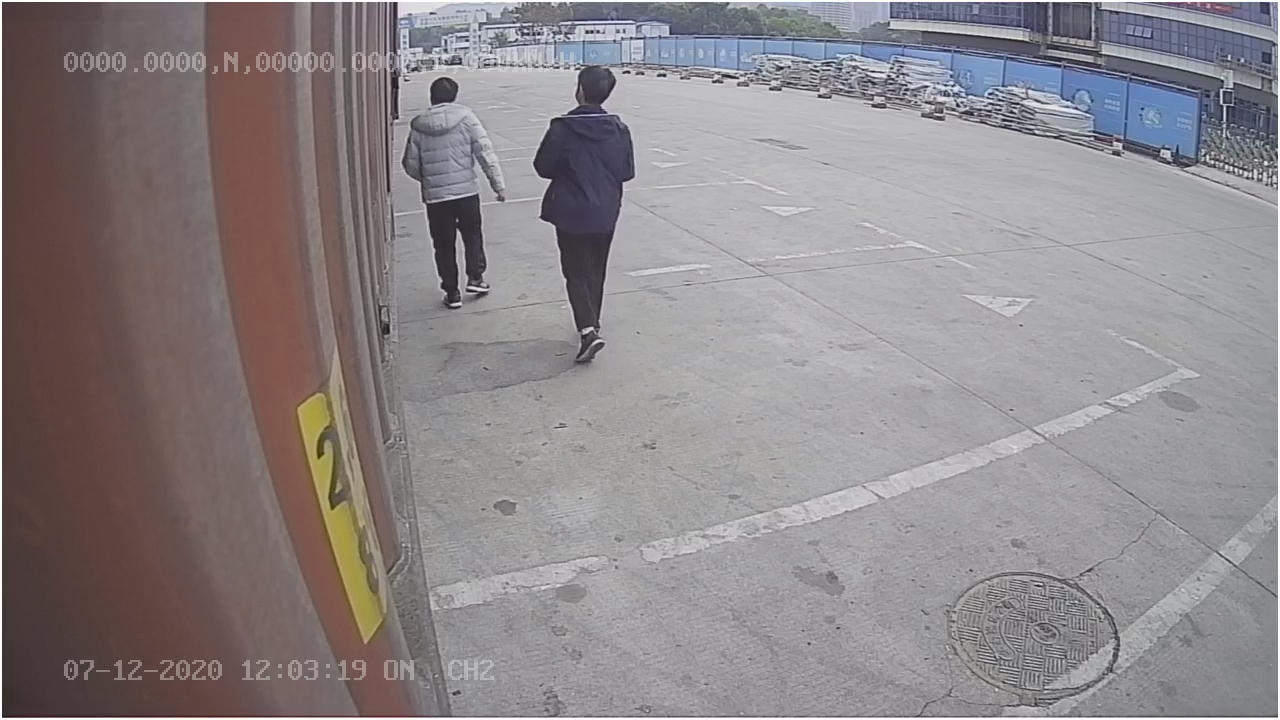person: (532, 56, 640, 363), (404, 75, 506, 310)
